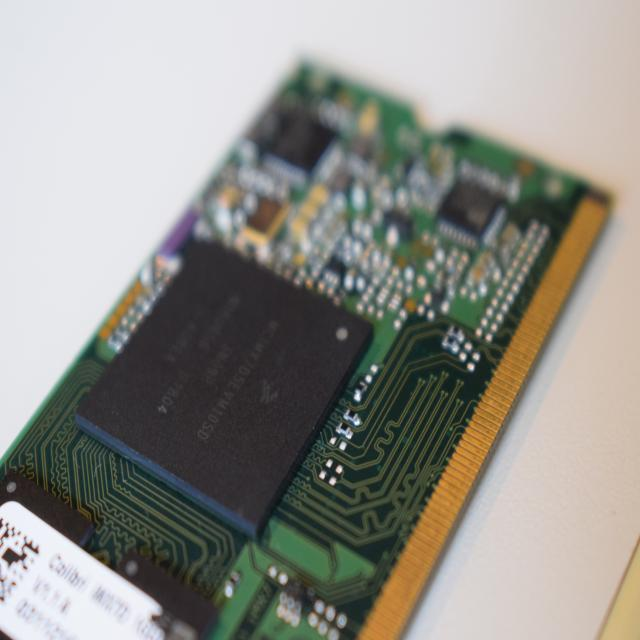som: (1, 48, 635, 640)
